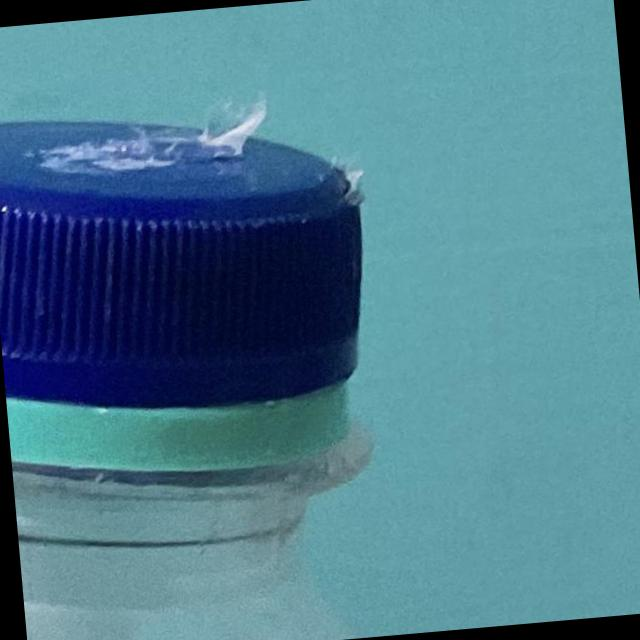Good-cap-Df0S: (0, 82, 403, 464)
